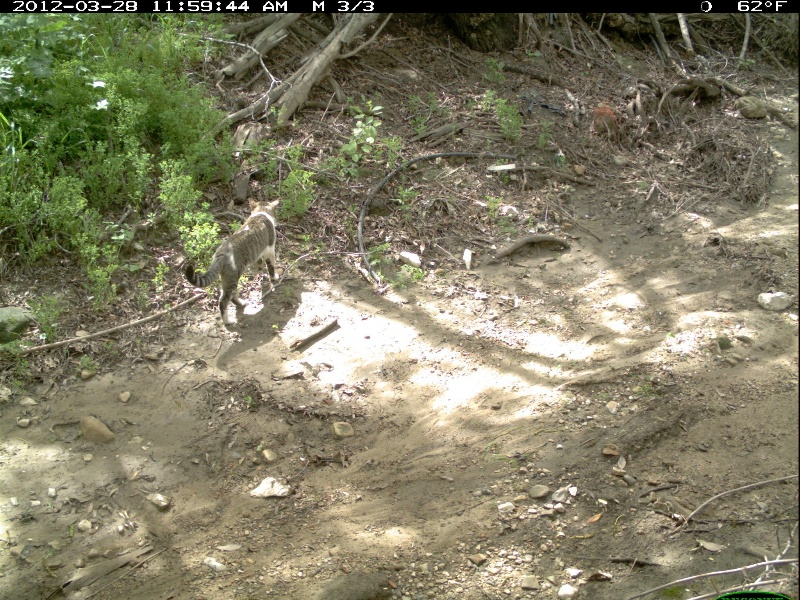cat: (182, 192, 287, 330)
